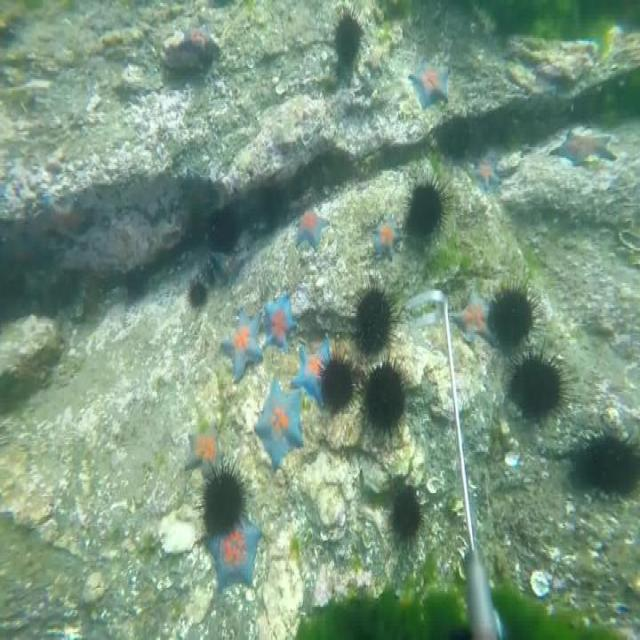echinus: (356, 360, 406, 438), (492, 268, 538, 352), (574, 430, 640, 488), (502, 356, 566, 412), (198, 463, 245, 539), (348, 280, 394, 356), (404, 169, 448, 240), (317, 351, 355, 412), (332, 5, 364, 72), (391, 490, 422, 550), (209, 207, 235, 253), (123, 264, 145, 302), (187, 275, 206, 310)
scallop: (530, 568, 550, 598)
starfish: (252, 384, 302, 466), (210, 517, 260, 591), (222, 299, 260, 384), (406, 54, 451, 118), (551, 123, 612, 169), (298, 334, 332, 404), (266, 290, 294, 352), (455, 294, 488, 340), (297, 202, 329, 248), (183, 422, 213, 471), (372, 218, 398, 261), (473, 152, 496, 190)
